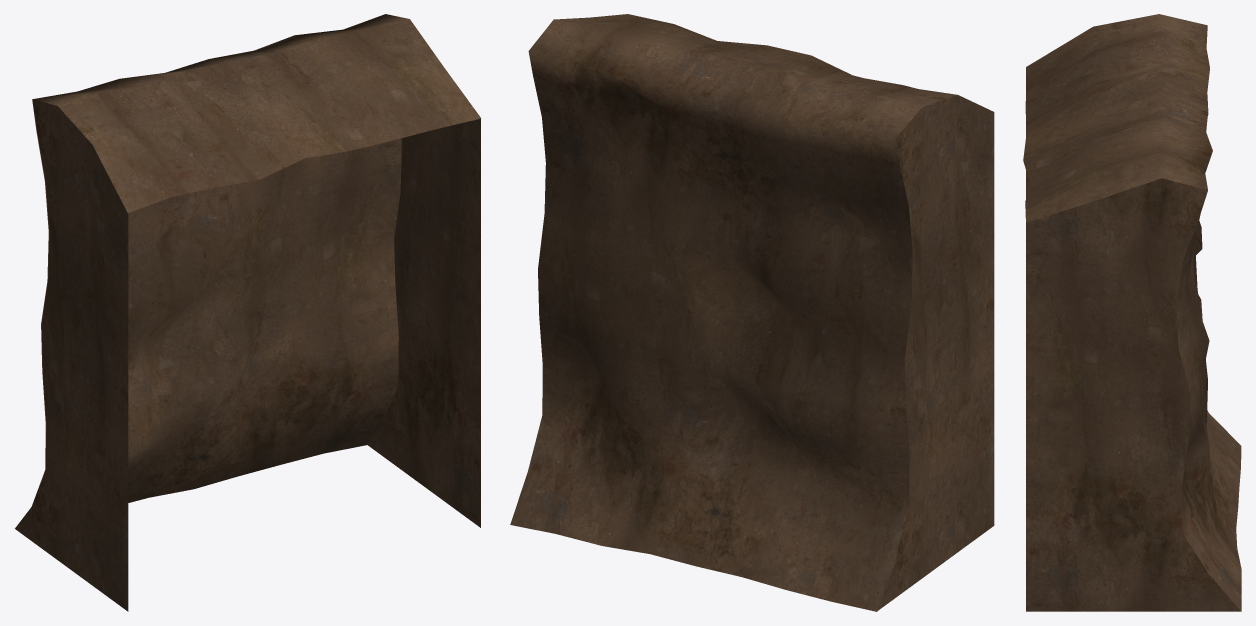
File: S7U_EarthBank_2m_LOD1.fbx
The picture shows the model from 3 angles, left to right: view 1: azimuth 30°, elevation 25°; view 2: azimuth 150°, elevation 25°; view 3: azimuth 270°, elevation 25°; orthographic projection. The views are drawn at different scales.
Visible parts, largest first — view 1: S7U_EarthBank_2m_LOD1; view 2: S7U_EarthBank_2m_LOD1; view 3: S7U_EarthBank_2m_LOD1.
Part boxes in pixels (left/top/right/bottom): S7U_EarthBank_2m_LOD1: left=15, top=14, right=481, bottom=611; S7U_EarthBank_2m_LOD1: left=510, top=14, right=994, bottom=611; S7U_EarthBank_2m_LOD1: left=1023, top=14, right=1241, bottom=611.
Size of the model in its own units: 2 by 2.48 by 1.13.
